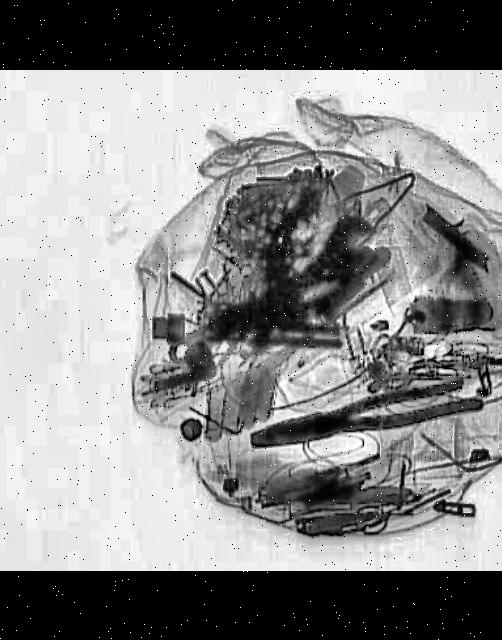Pliers: (246, 370, 488, 456)
Wrench: (152, 206, 400, 380)
